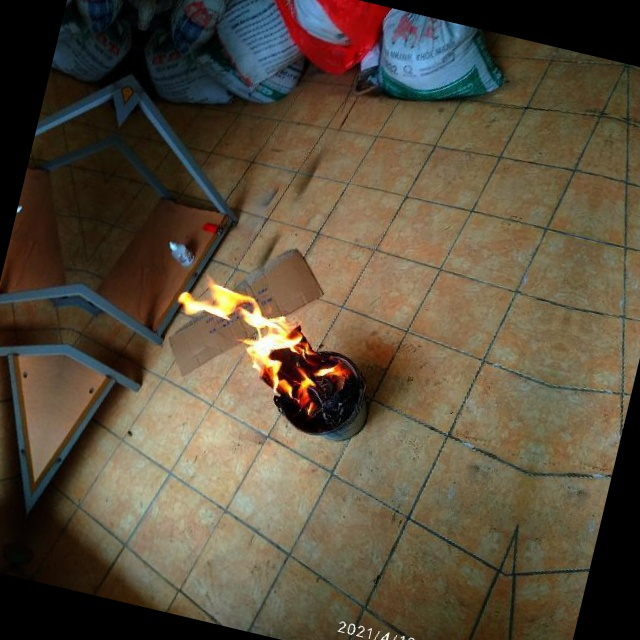fire: (170, 261, 367, 427)
